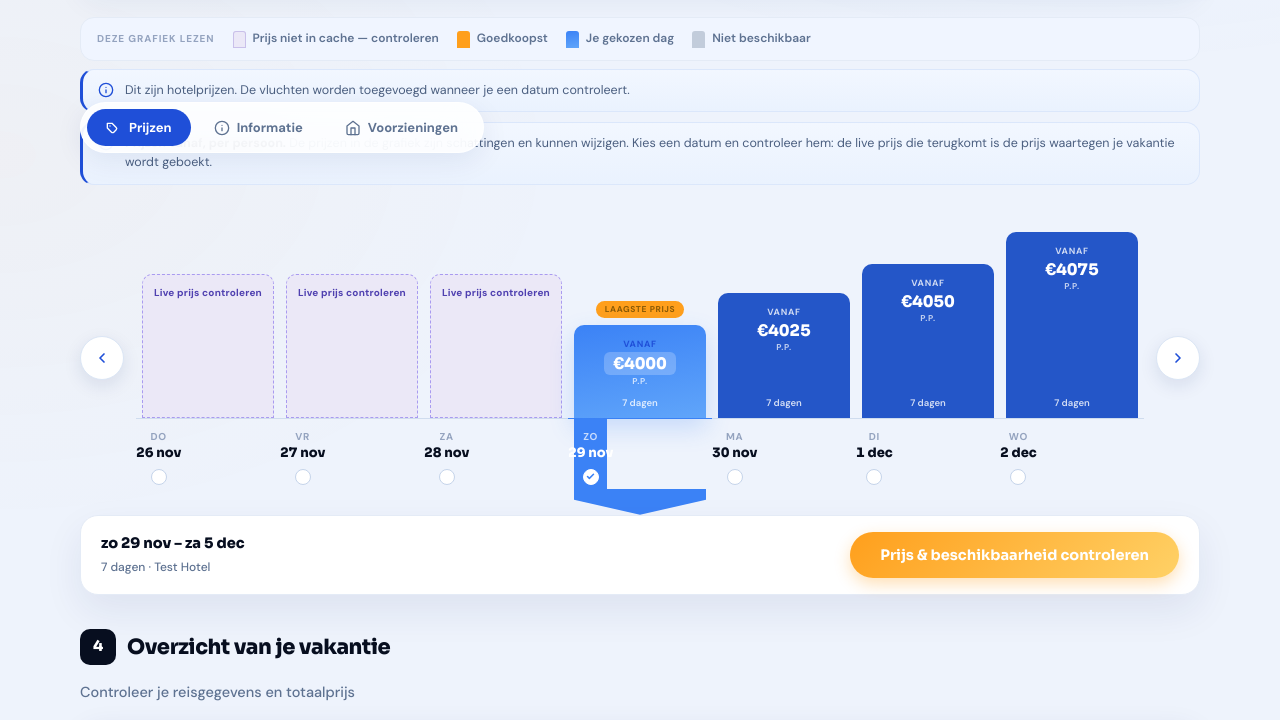
Test: trip length is stated in days, never in nights › never prints the nights figure under the word "days" anywhere on the page
This screenshot has width=1280, height=720.
(page scrolled)
Click the button "Laagste prijs vanaf €4000 p.p. 7 dagen zo 29 nov" at (640, 361), box [568,207,712,515]
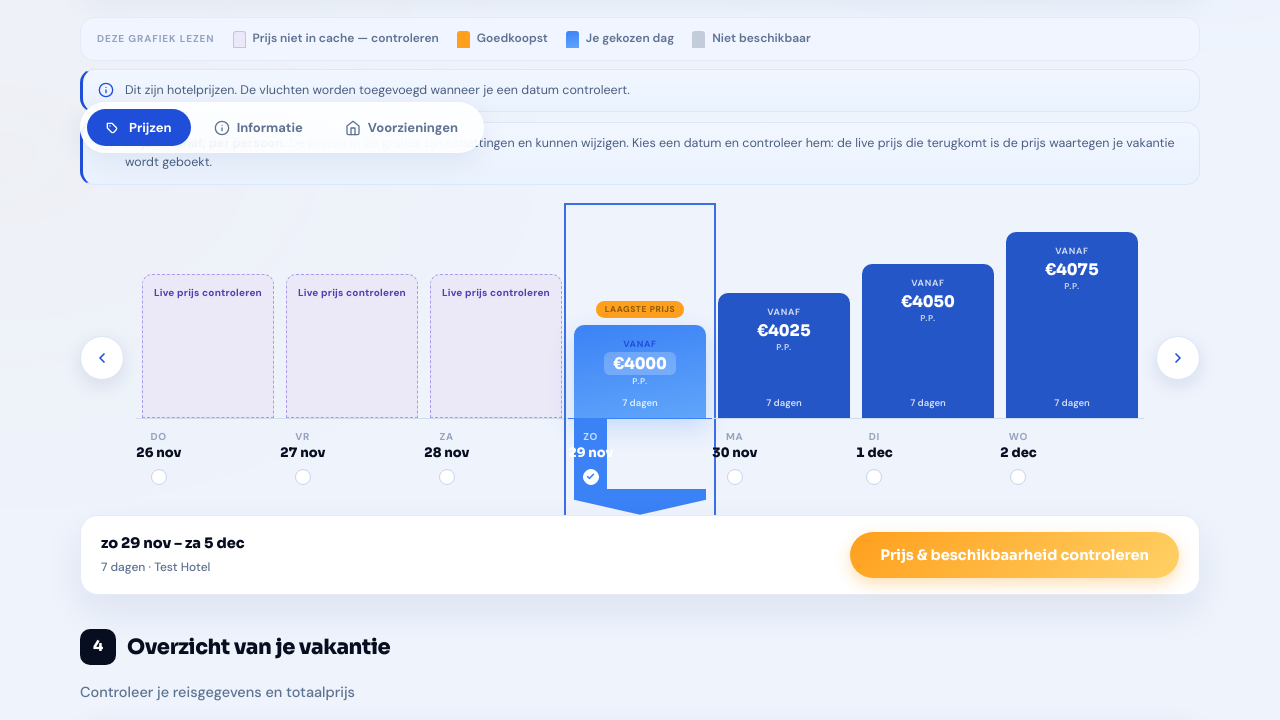
Click the button "Prijs & beschikbaarheid controleren" at (1015, 555), box [850,532,1179,578]
(page scrolled)
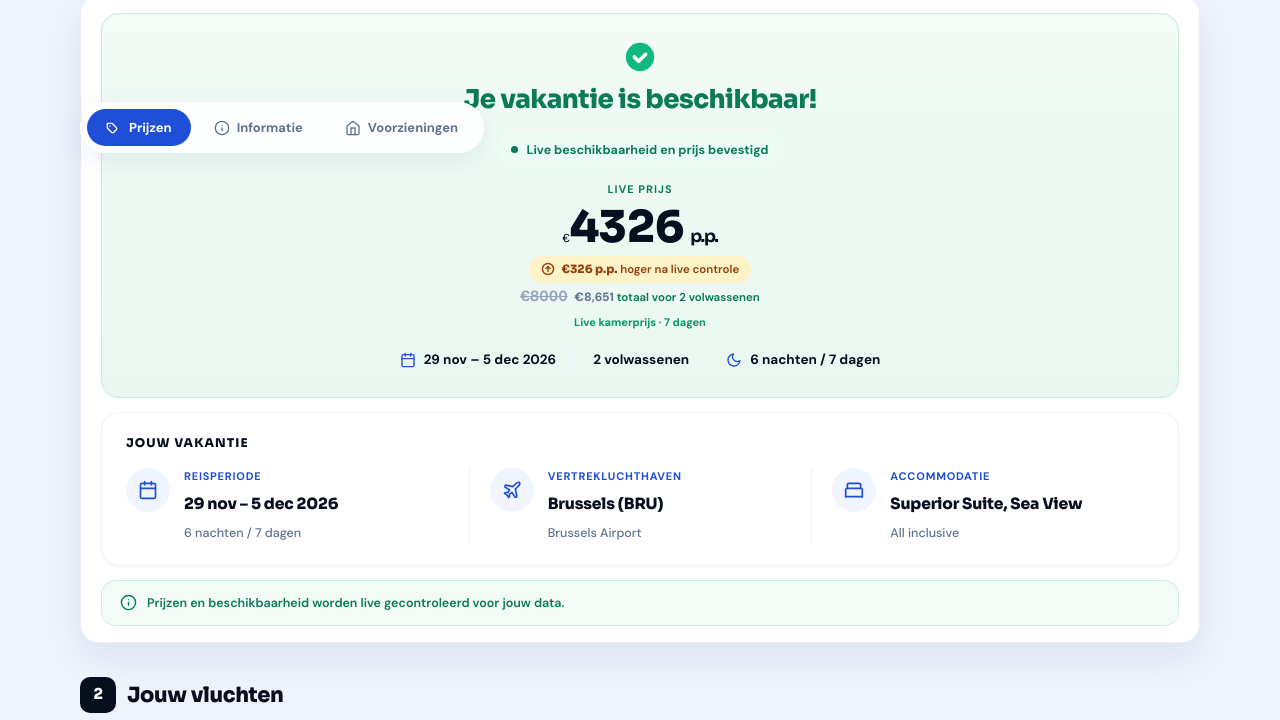
Now the element with class "av-facts" is shown, box [400,349,880,371]
